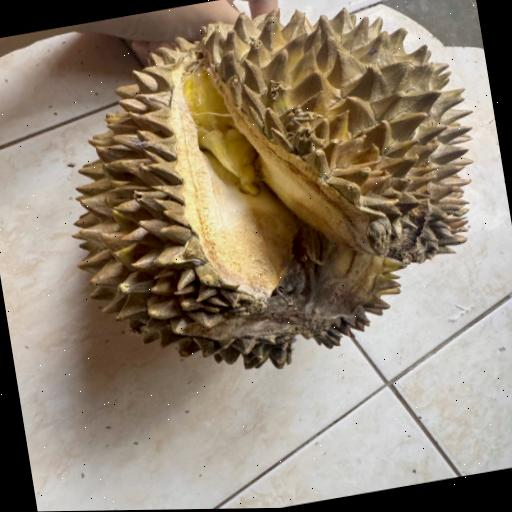rot: (3, 0, 512, 449)
